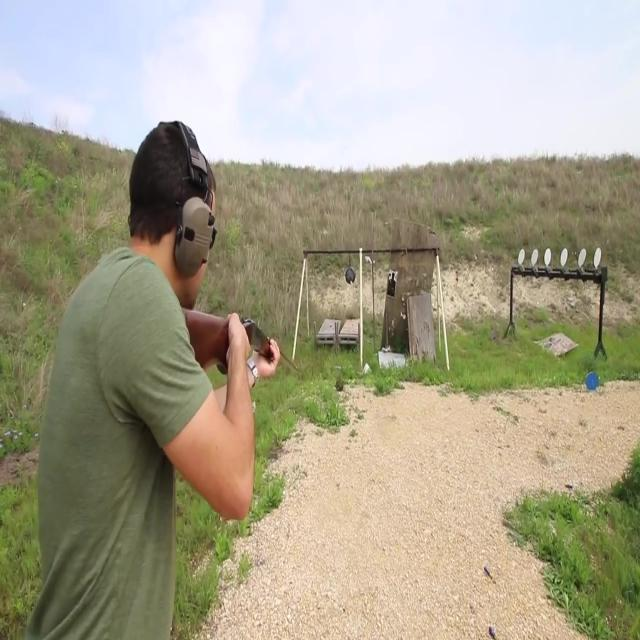Weapon: (148, 285, 314, 435)
